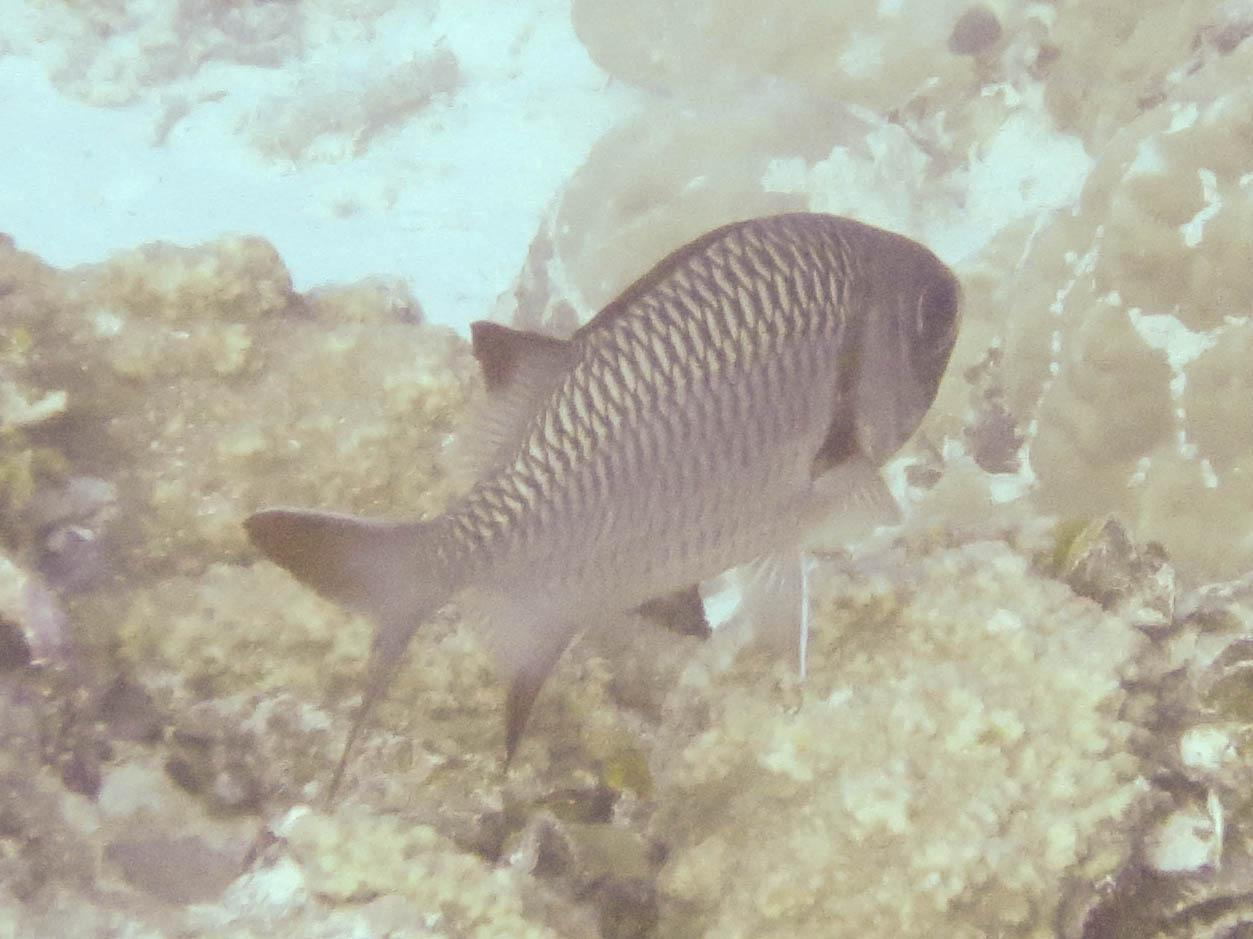Fish: (204, 211, 988, 792)
